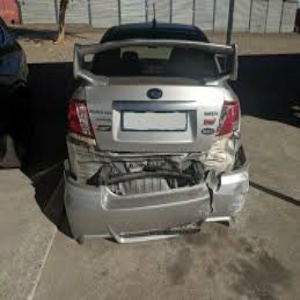bumper: (65, 160, 253, 242)
